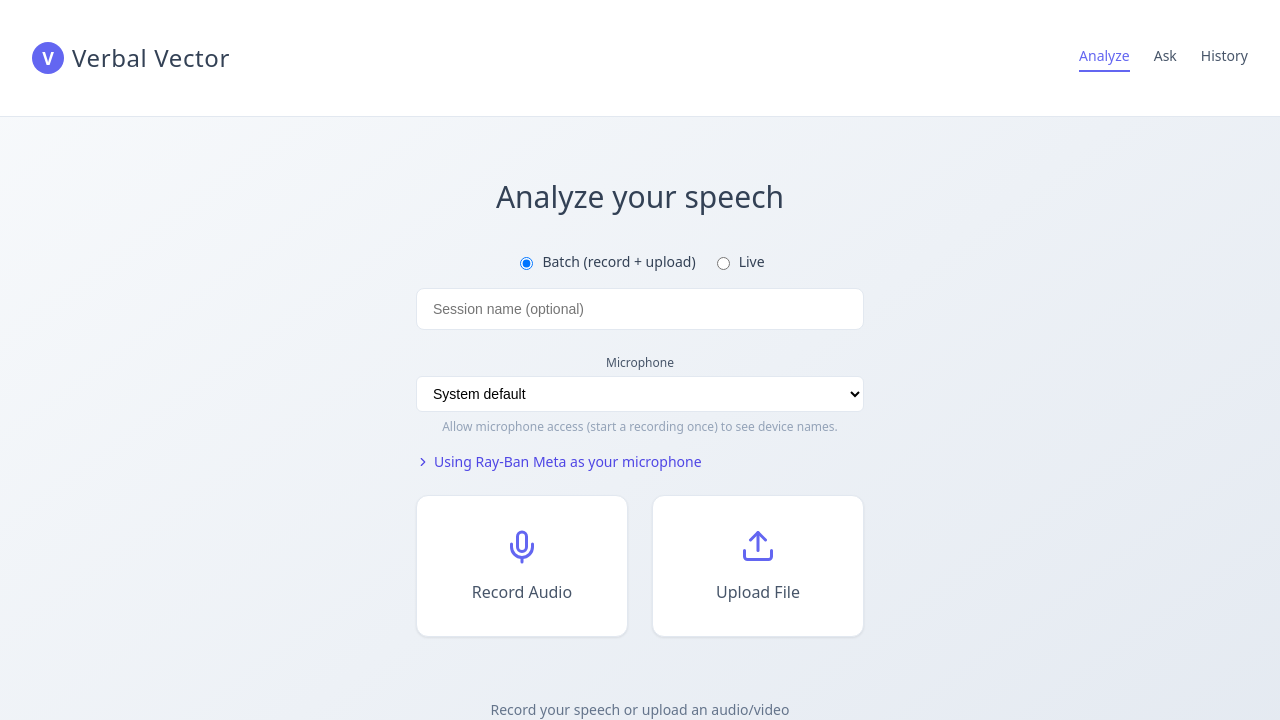
Test: VerbalVector live mode › renders speaker-labeled finals in LiveTranscript when multi-speaker transcripts arrive
Click the radio button labelled "Live": [723, 263] box [717, 256, 730, 270]
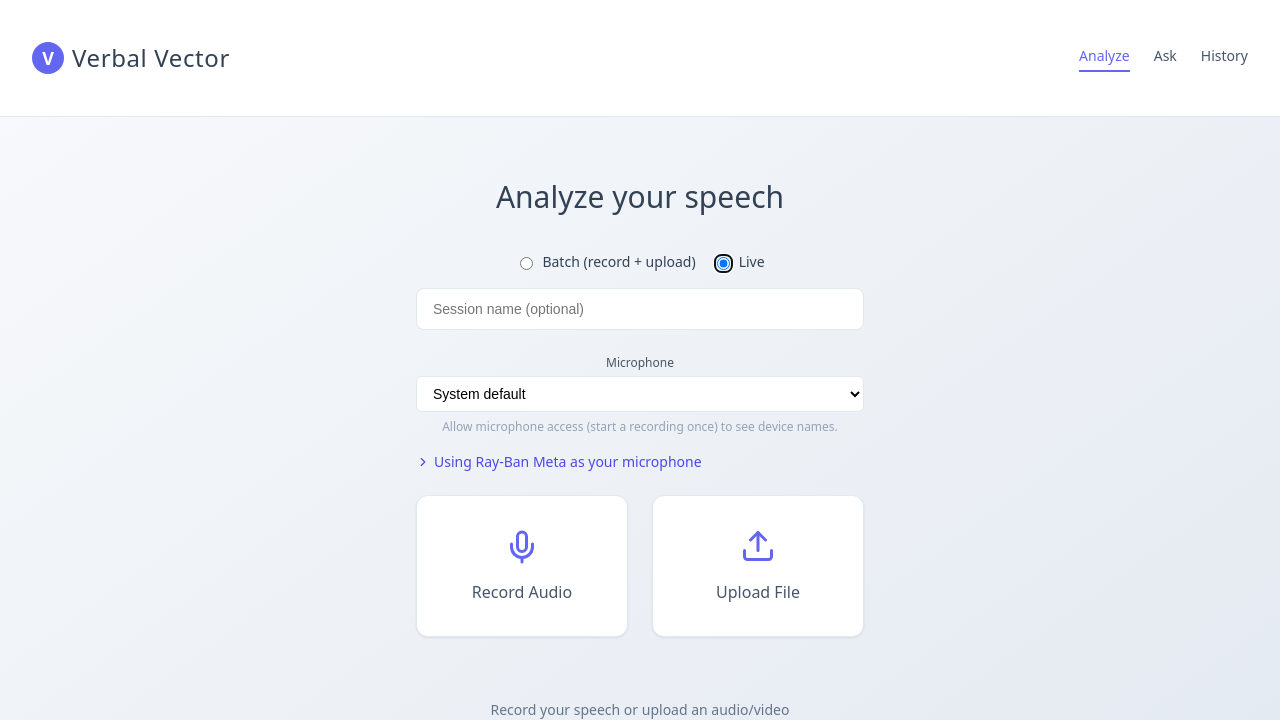
Click the button "Record Audio": [522, 566] box [416, 495, 628, 637]
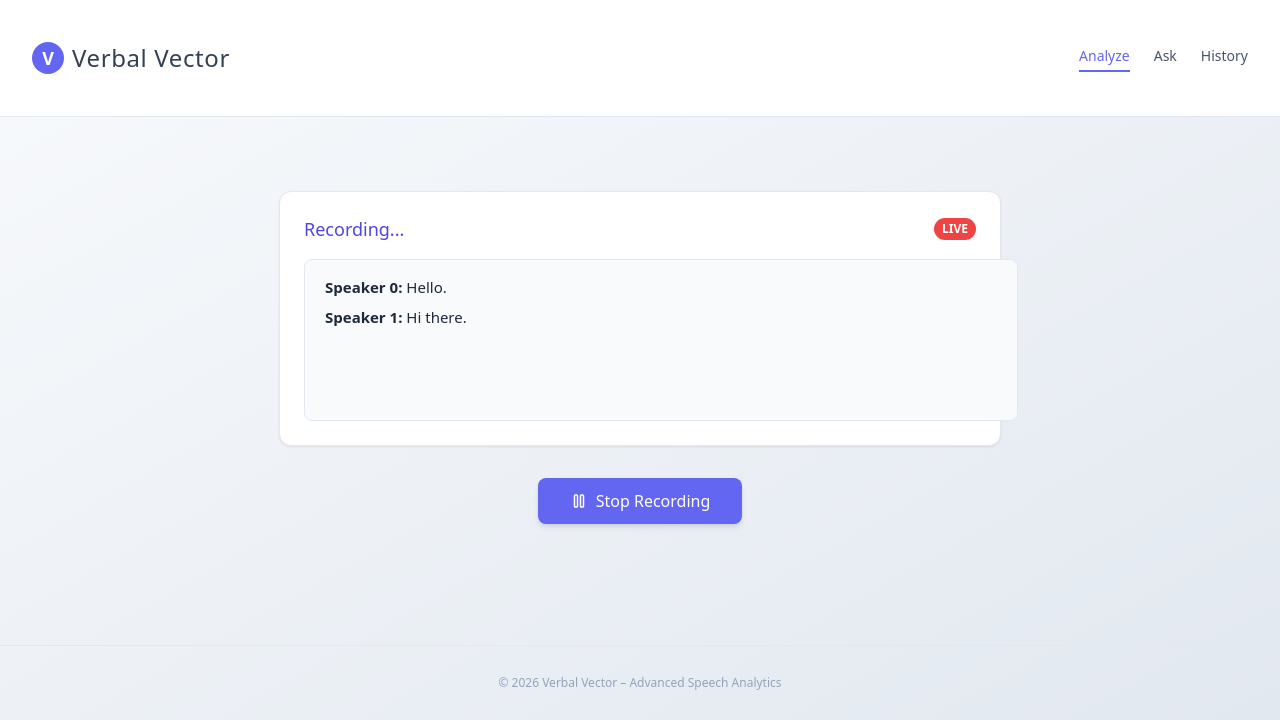
Expected: the text "Speaker 0:" is shown, [325, 277, 406, 297]
Expected: the text "Speaker 1:" is shown, [325, 307, 406, 327]
Expected: the text "Hello." is shown, [406, 277, 447, 297]
